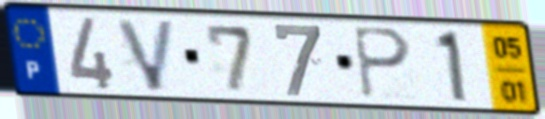1: (432, 28, 471, 104)
4: (67, 14, 118, 92)
7: (270, 21, 324, 98), (202, 23, 258, 94)
P: (349, 24, 415, 101)
V: (112, 16, 180, 94)
